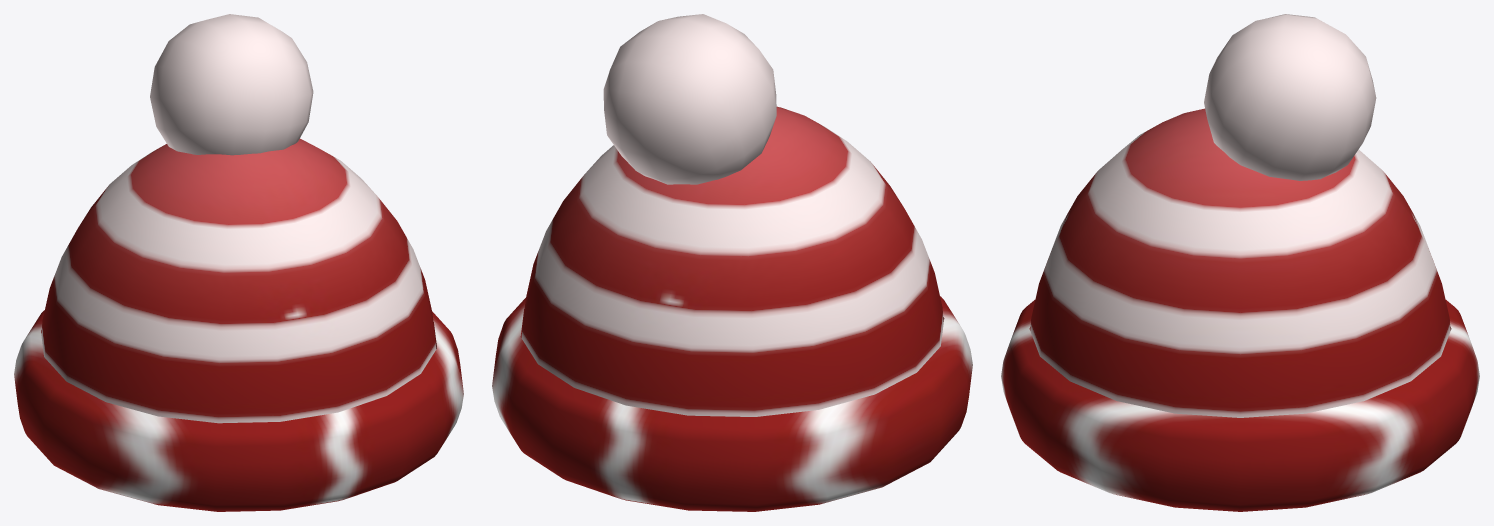
The model's file is hat.fbx.
3 renders of one model, left to right at view 1: azimuth 30°, elevation 25°; view 2: azimuth 150°, elevation 25°; view 3: azimuth 270°, elevation 25°, orthographic. The views are drawn at different scales.
Parts seen in each view (by area): view 1: pCube2; view 2: pCube2; view 3: pCube2.
Part boxes in pixels (left/top/right/bottom): pCube2: left=14, top=14, right=463, bottom=511; pCube2: left=492, top=14, right=972, bottom=511; pCube2: left=1001, top=14, right=1479, bottom=511.
Size of the model in its own units: 56.09 by 52.79 by 56.09.
